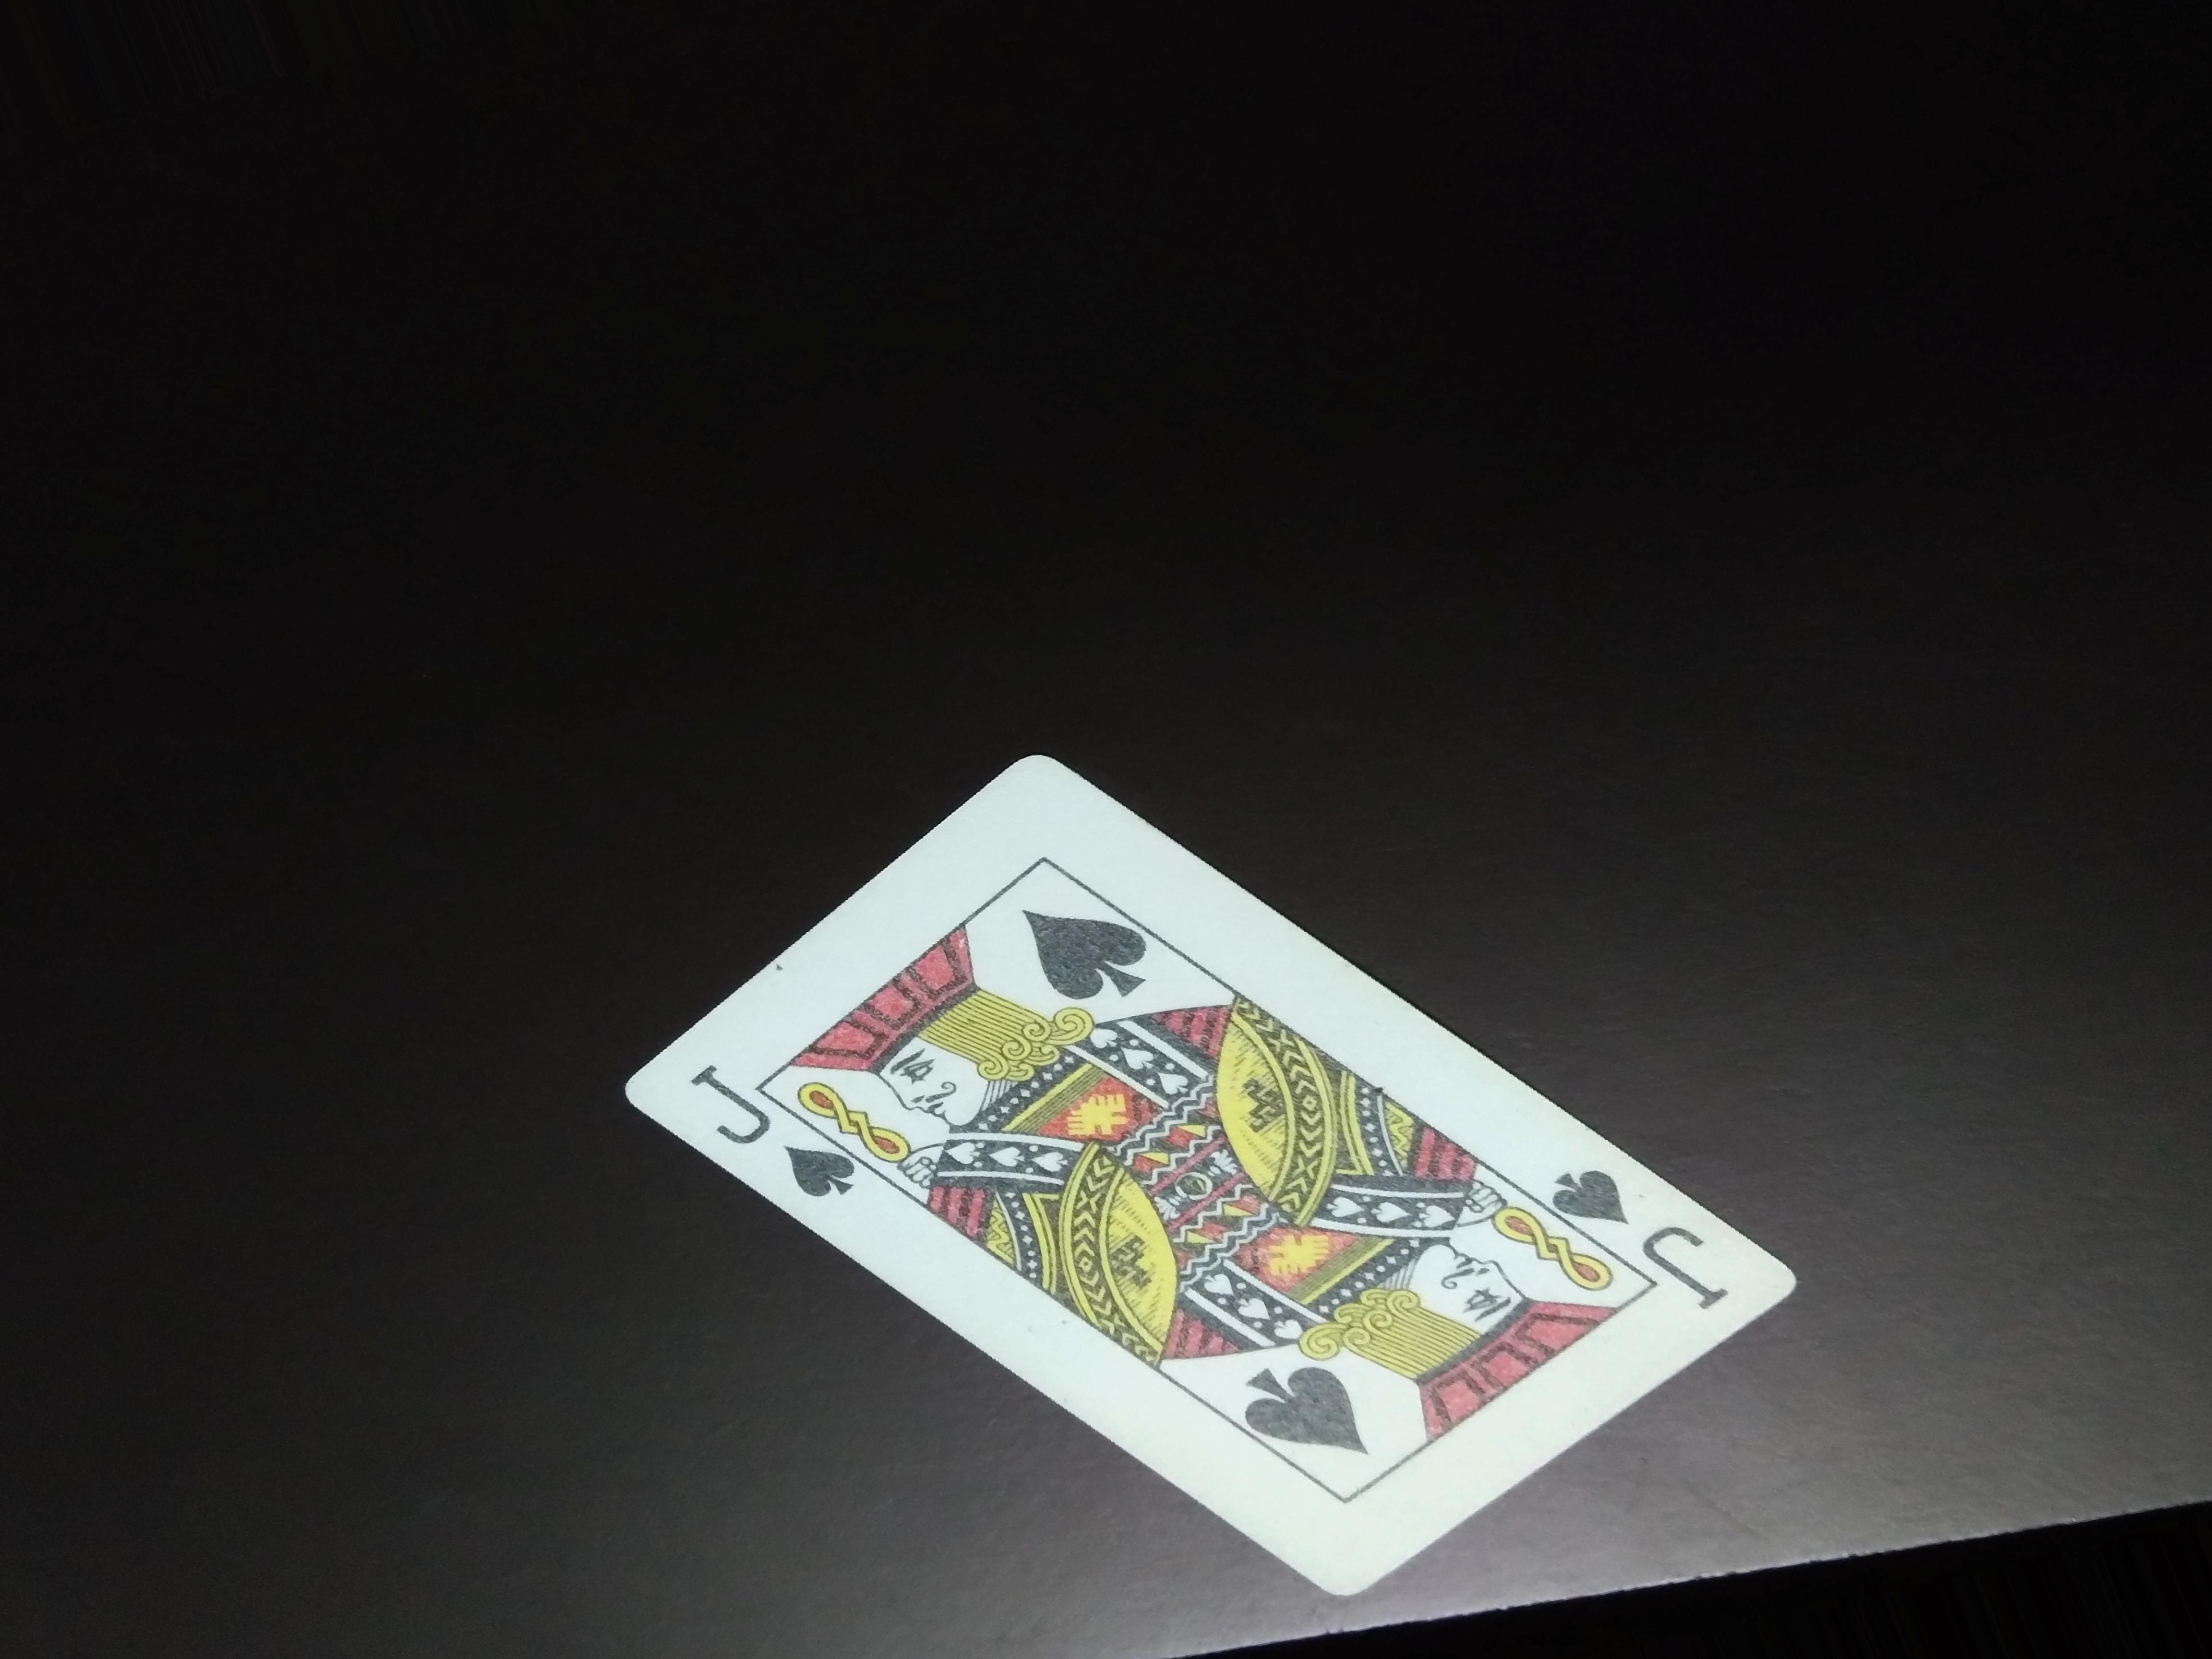JS: (615, 1053, 869, 1201)
